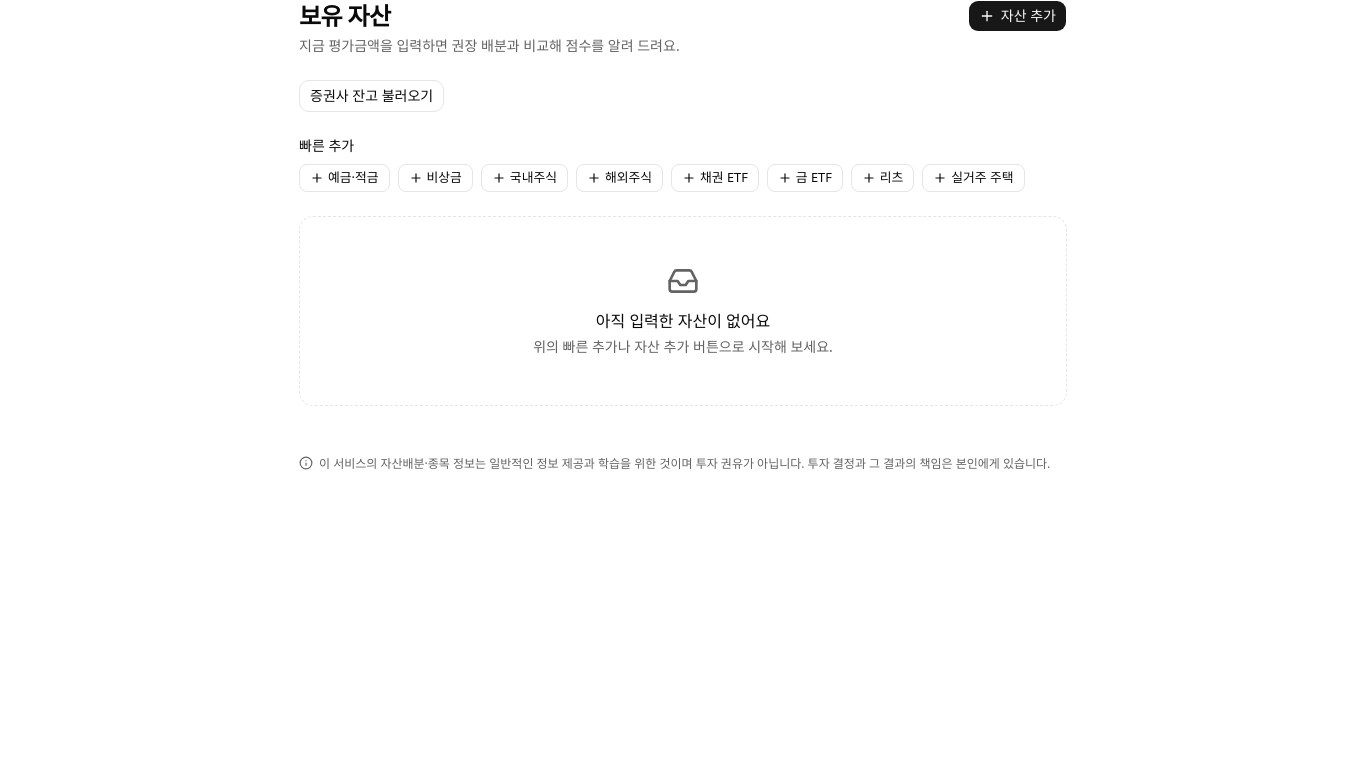
it: 증권사 잔고 동기화 › 공급자 오류를 표시하고 같은 연결로 재시도할 수 있다
This screenshot has width=1366, height=768.
Click the button "증권사 잔고 불러오기" at (372, 96), box [299,80,444,112]
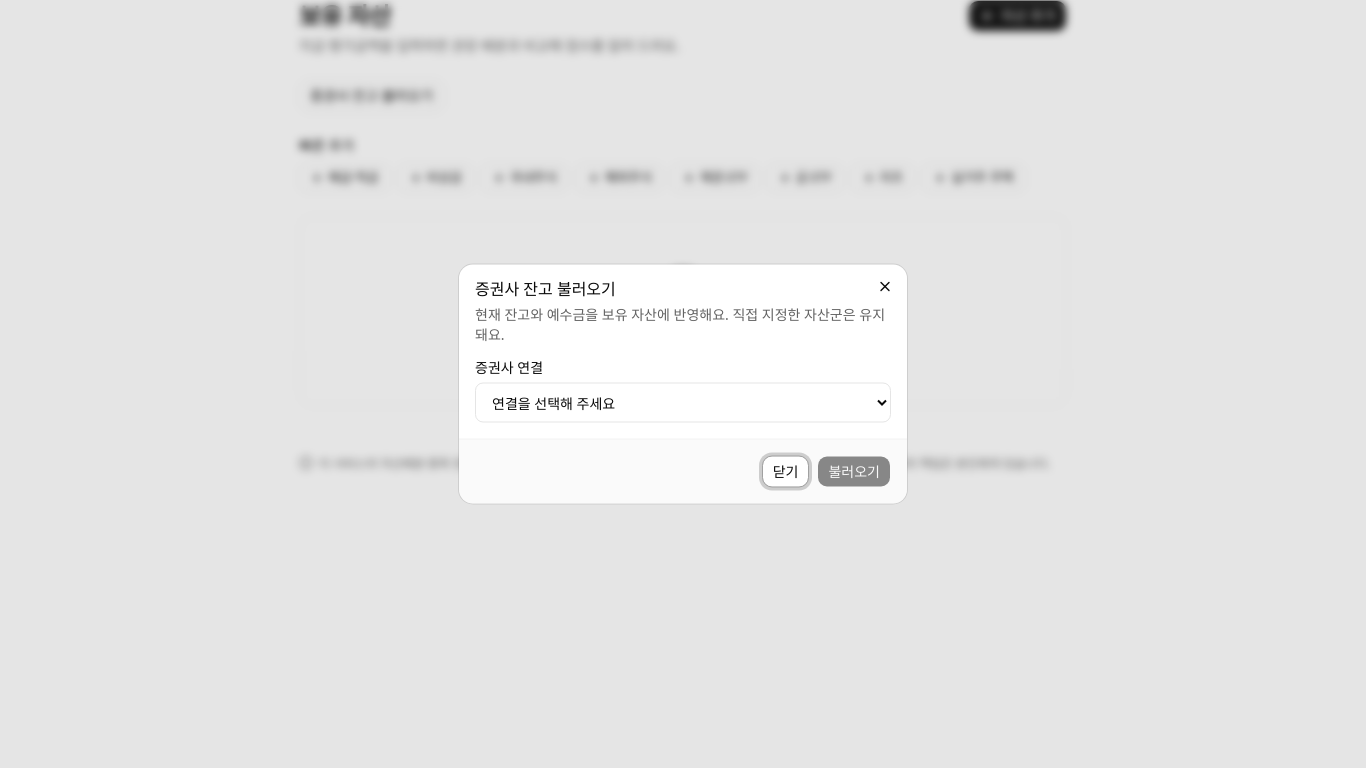
Select "내 샘플 계좌 (샘플)" in the dropdown labelled "증권사 연결" at (683, 402), box [475,382,891,422]
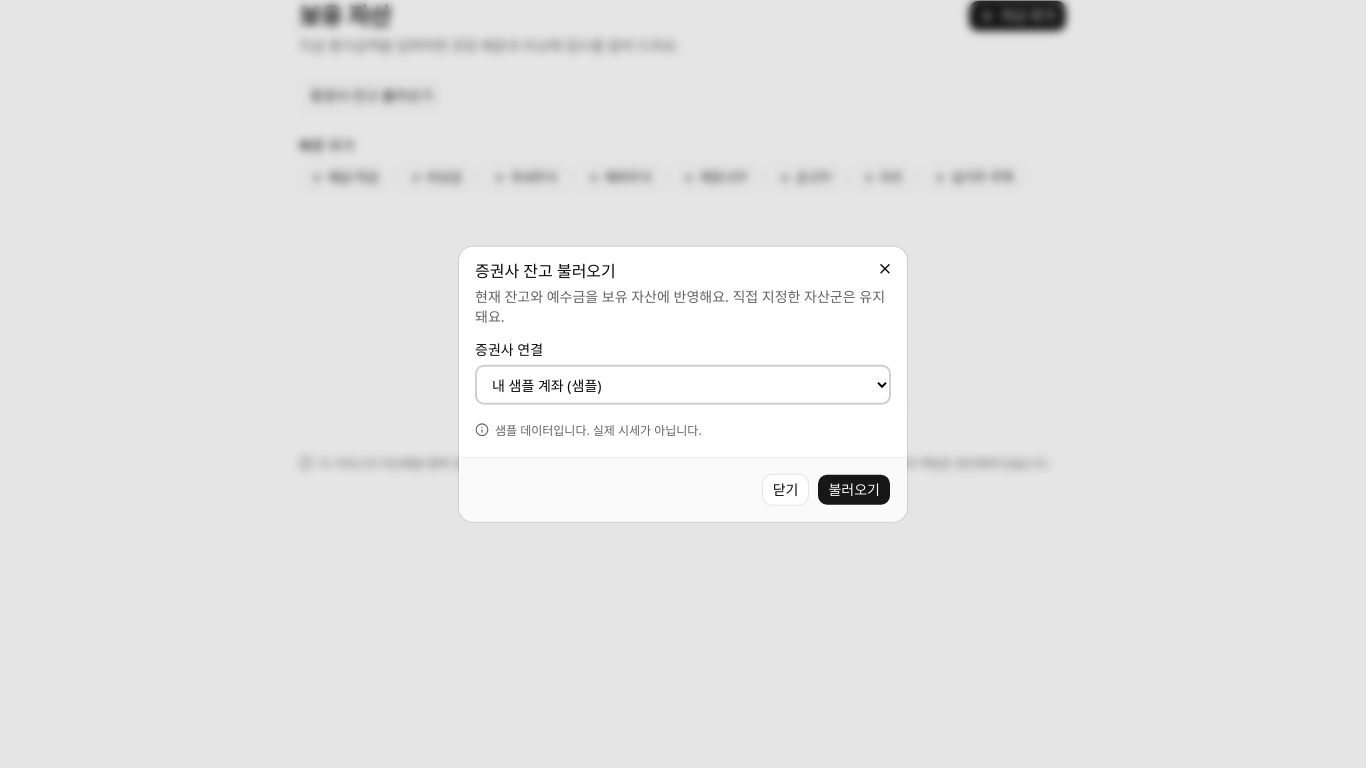
Click the button "불러오기" at (854, 489), box [818,473,891,505]
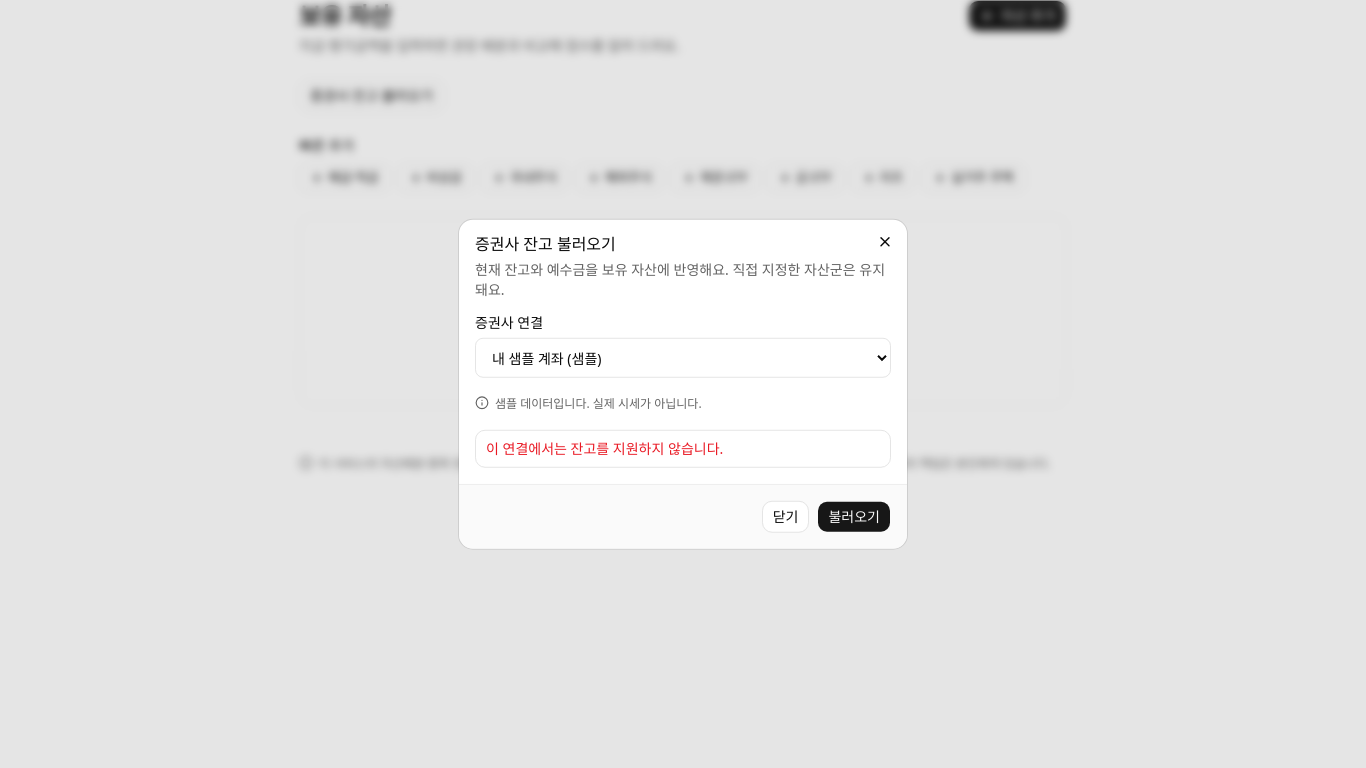
Now the button "불러오기" is enabled, box [818,500,891,532]
Now the text "이 연결에서는 잔고를 지원하지 않습니다." is shown, box [486,438,723,457]
